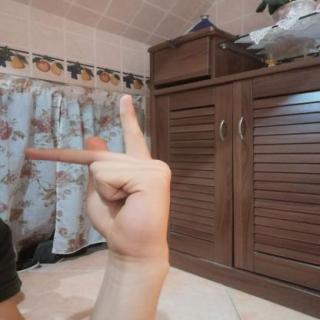DHAA: (13, 87, 182, 260)
